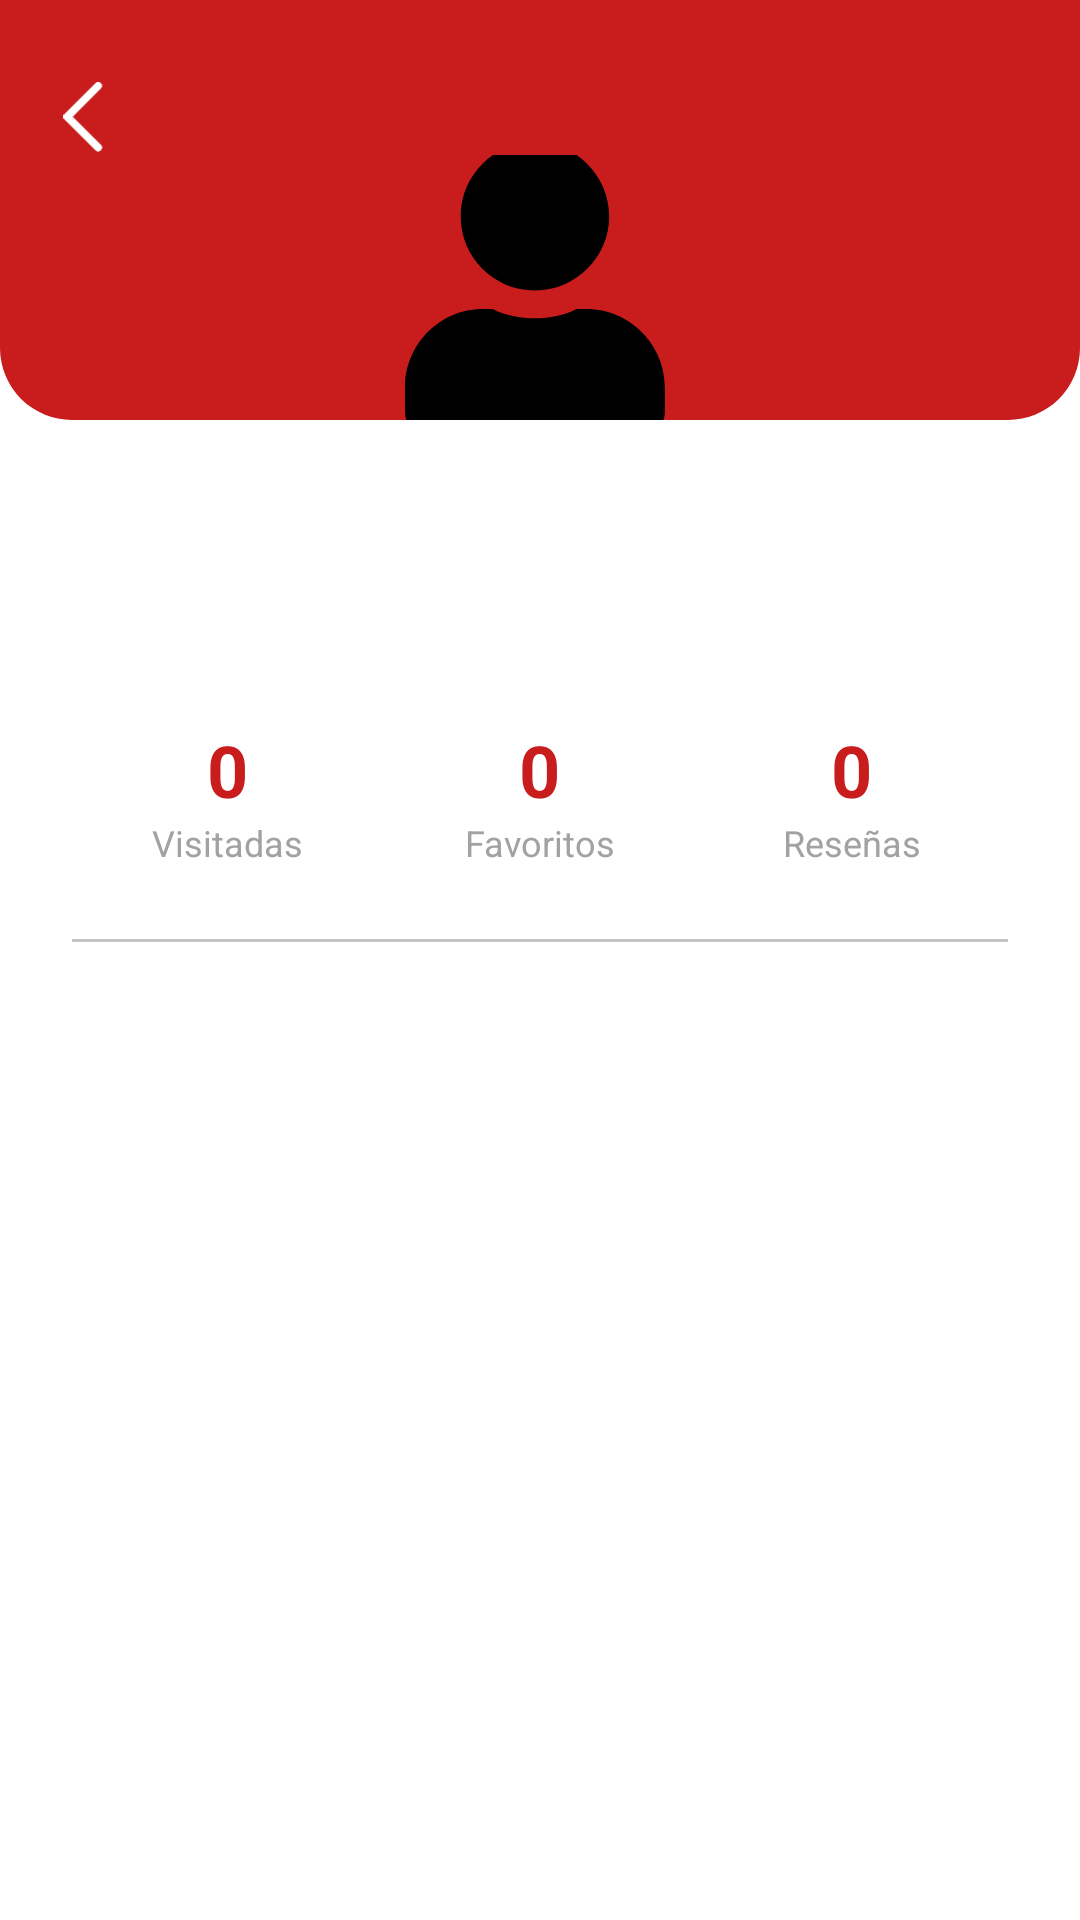

Named icons in this screenshot (1080×1920) and their centers, [x,y]:
arrow left: [83,117]
user: [535,287]
